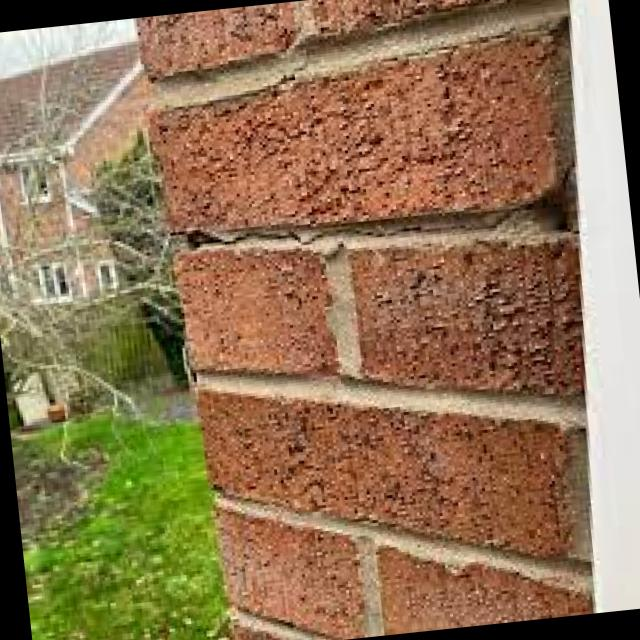crack: (172, 186, 508, 258)
